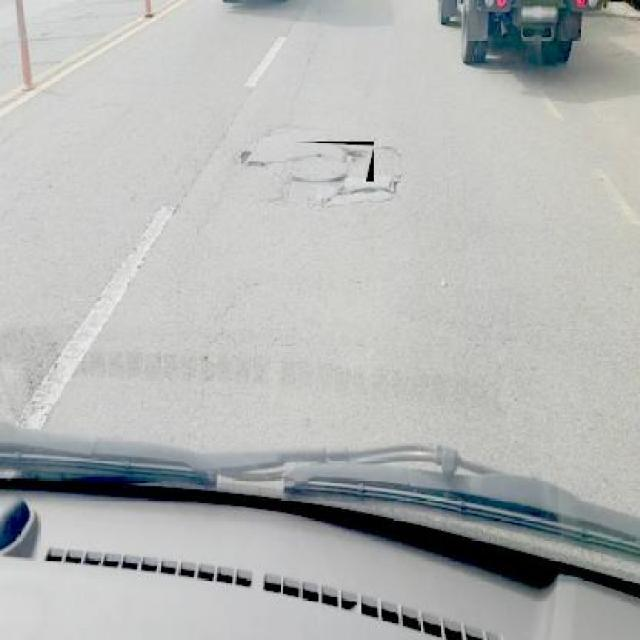Manhole: (292, 142, 374, 182)
Pothole: (375, 145, 407, 195), (320, 184, 390, 204), (235, 146, 269, 170)
